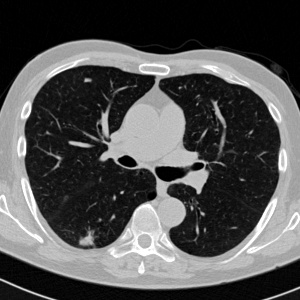PN: (84, 77, 90, 83)
